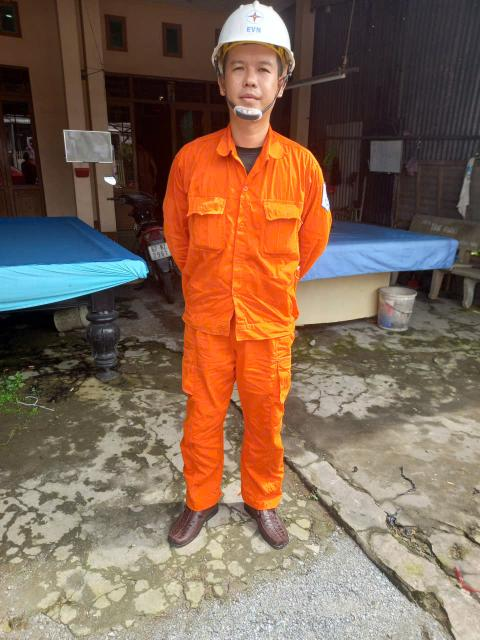helmet: (201, 0, 312, 95)
shoes: (244, 478, 296, 554), (165, 488, 222, 551)
